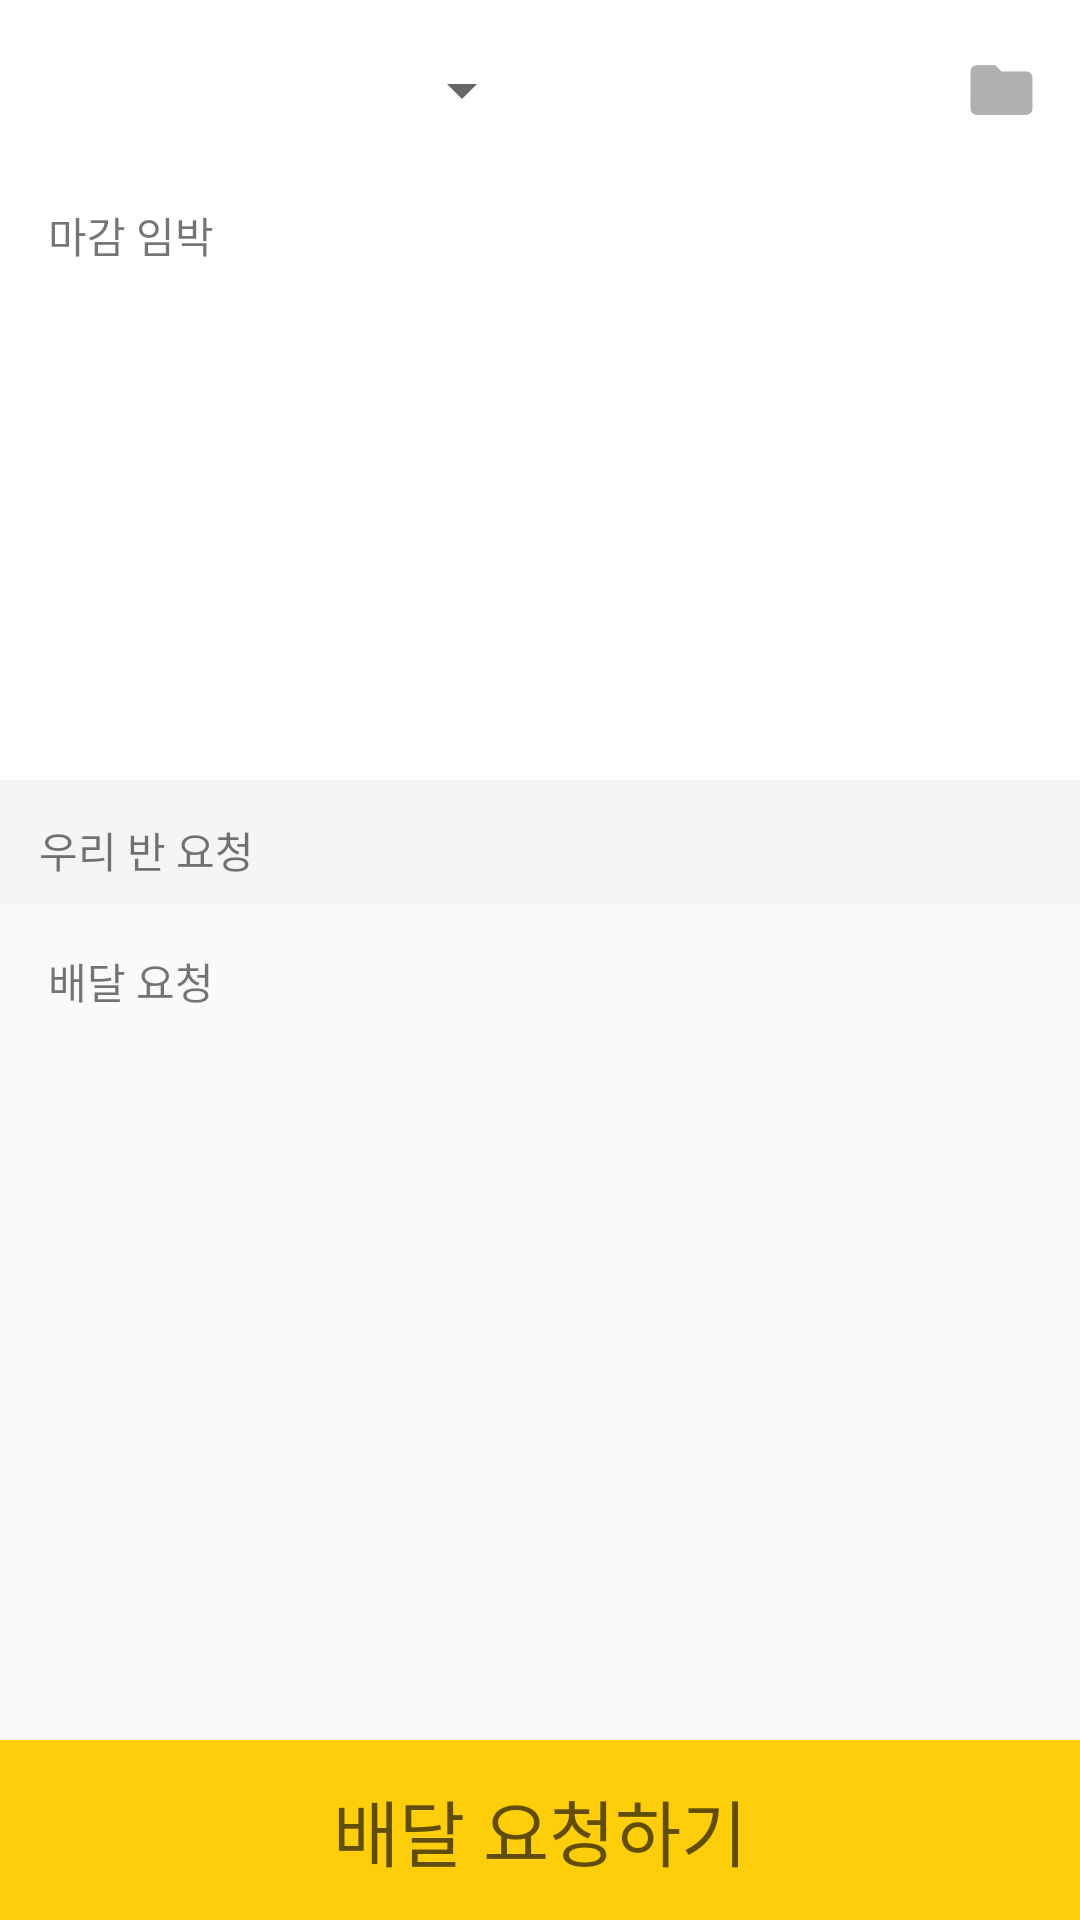

Locate icon controls on the screen. Image size 1080 x 1920, boxes as (x1, y1, x2, y2).
folder: (970, 65, 1033, 115)
